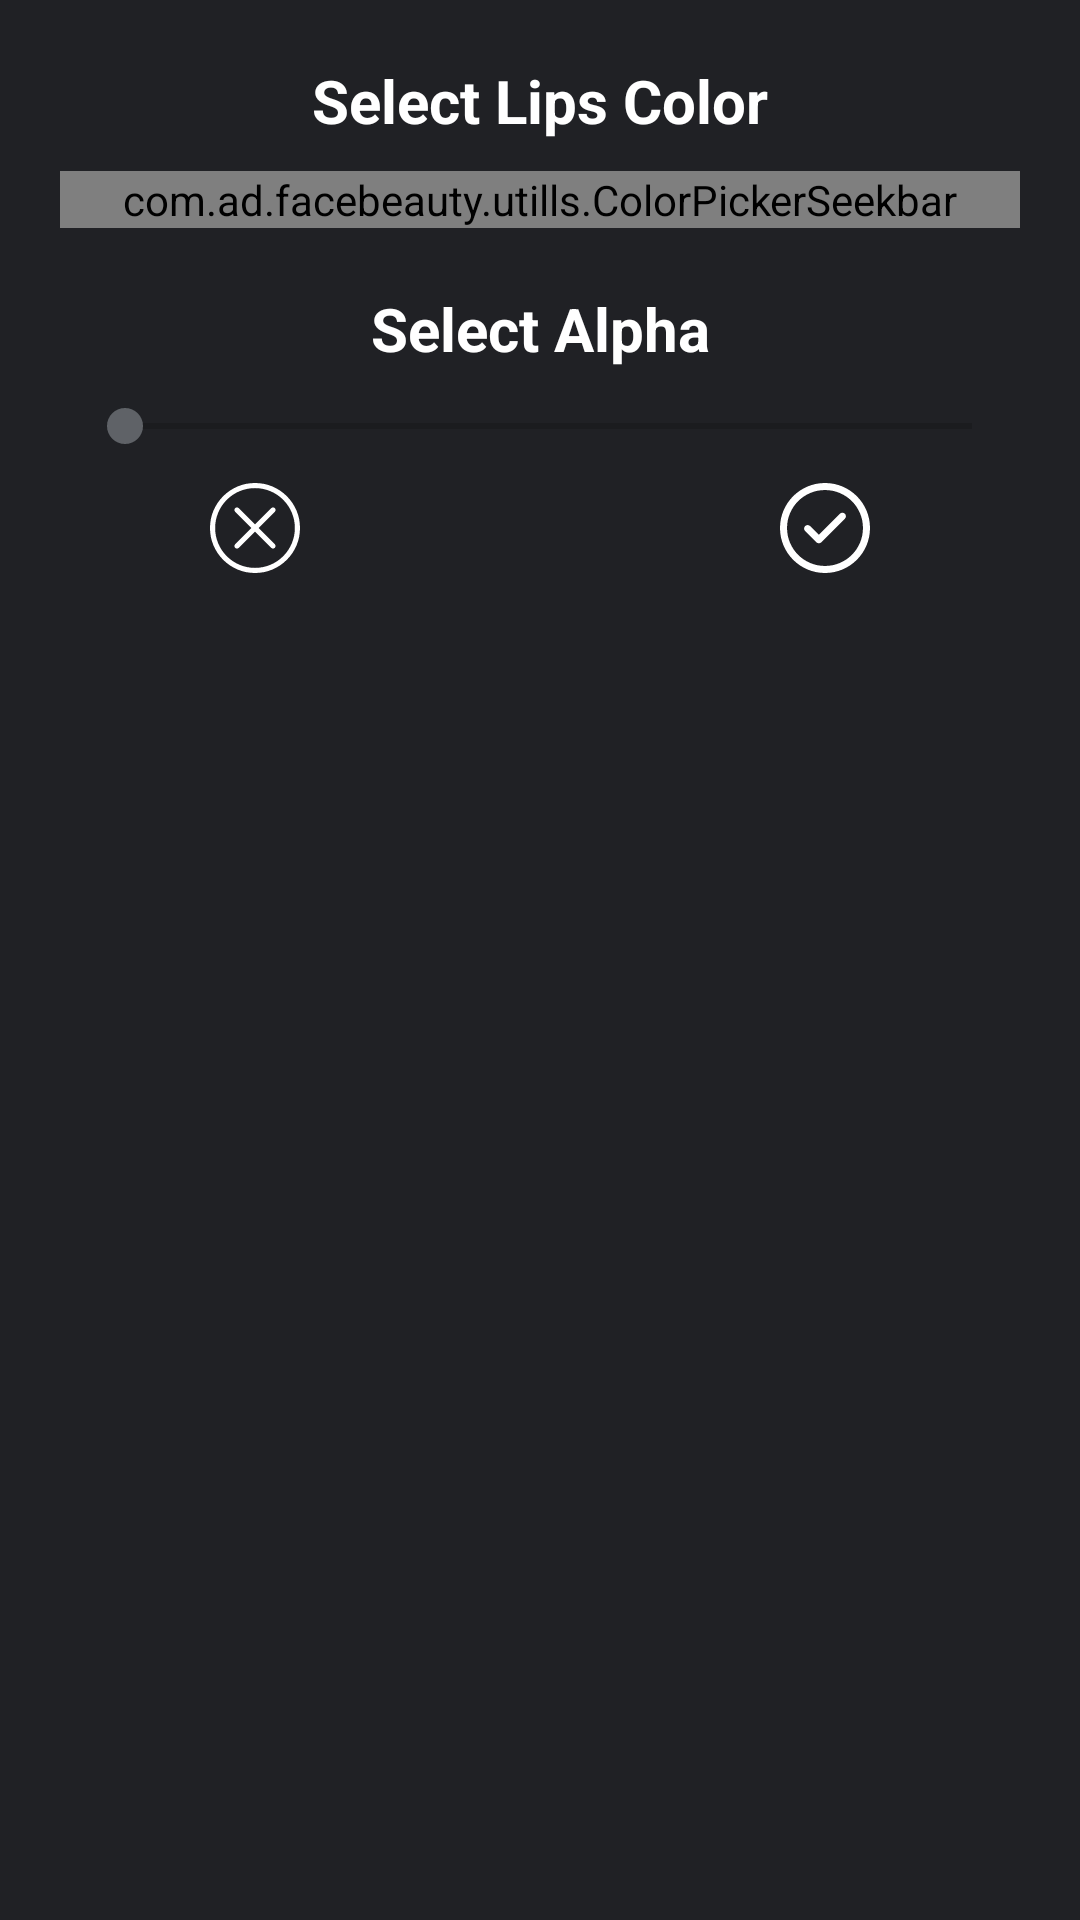

Named icons in this screenshot (1080x1920) and their bounding boxes, (x1, y1, x2, y2):
correct: (780, 483, 870, 573)
incorrect: (210, 483, 300, 573)
